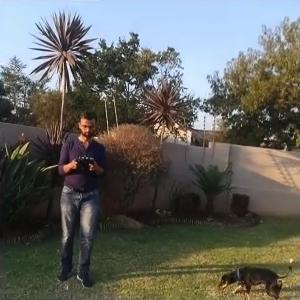follow: (53, 104, 106, 291)
null: (215, 252, 294, 299)
